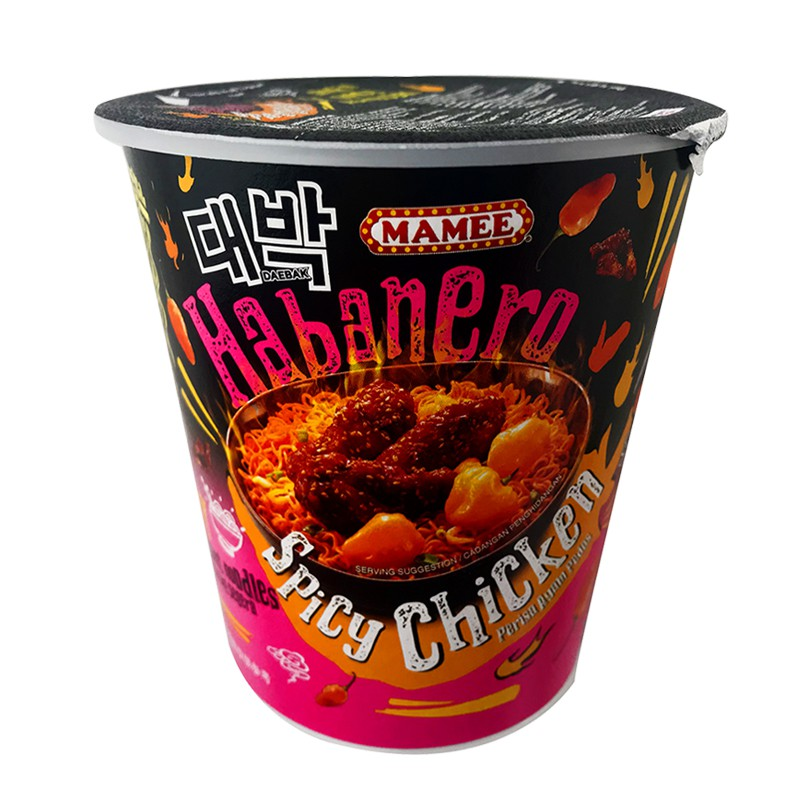PaperCup: (88, 70, 732, 755)
